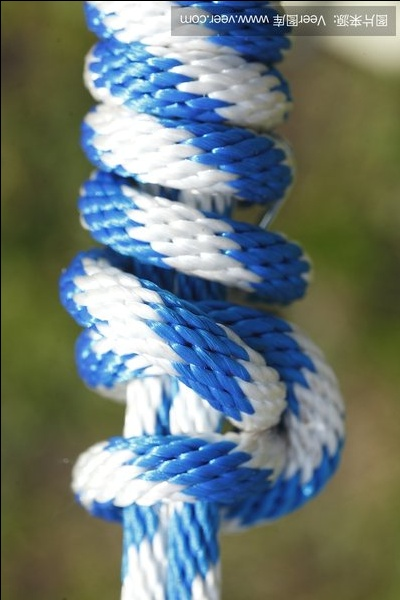9/可回收垃圾/绳子: (59, 1, 347, 600)
